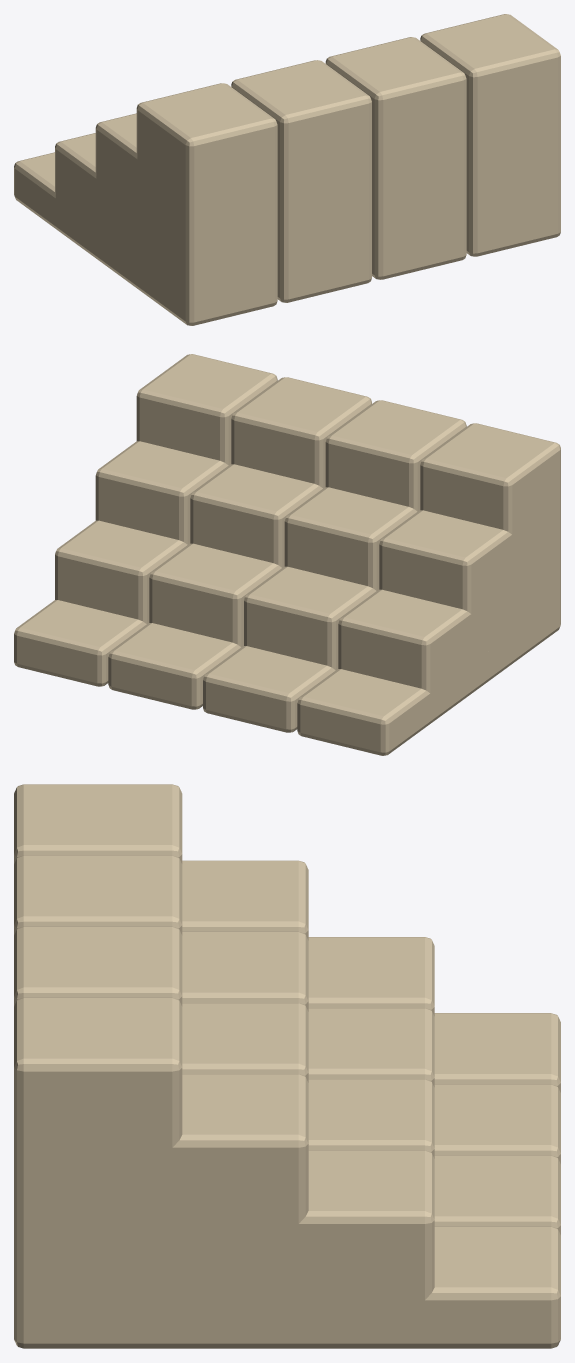
The model's file is quay-steps.glb.
3 renders of one model, top to bottom at view 1: azimuth 30°, elevation 25°; view 2: azimuth 150°, elevation 25°; view 3: azimuth 270°, elevation 25°, orthographic. The views are drawn at different scales.
Parts seen in each view (by area): view 1: quay-steps__limestone; view 2: quay-steps__limestone; view 3: quay-steps__limestone.
Part boxes in pixels (x1,y1,x2,y2): quay-steps__limestone: (14,14,560,325); quay-steps__limestone: (14,354,560,755); quay-steps__limestone: (14,784,560,1348).
Bounding box in the file's own units: 2.38 × 1.14 × 1.95.
